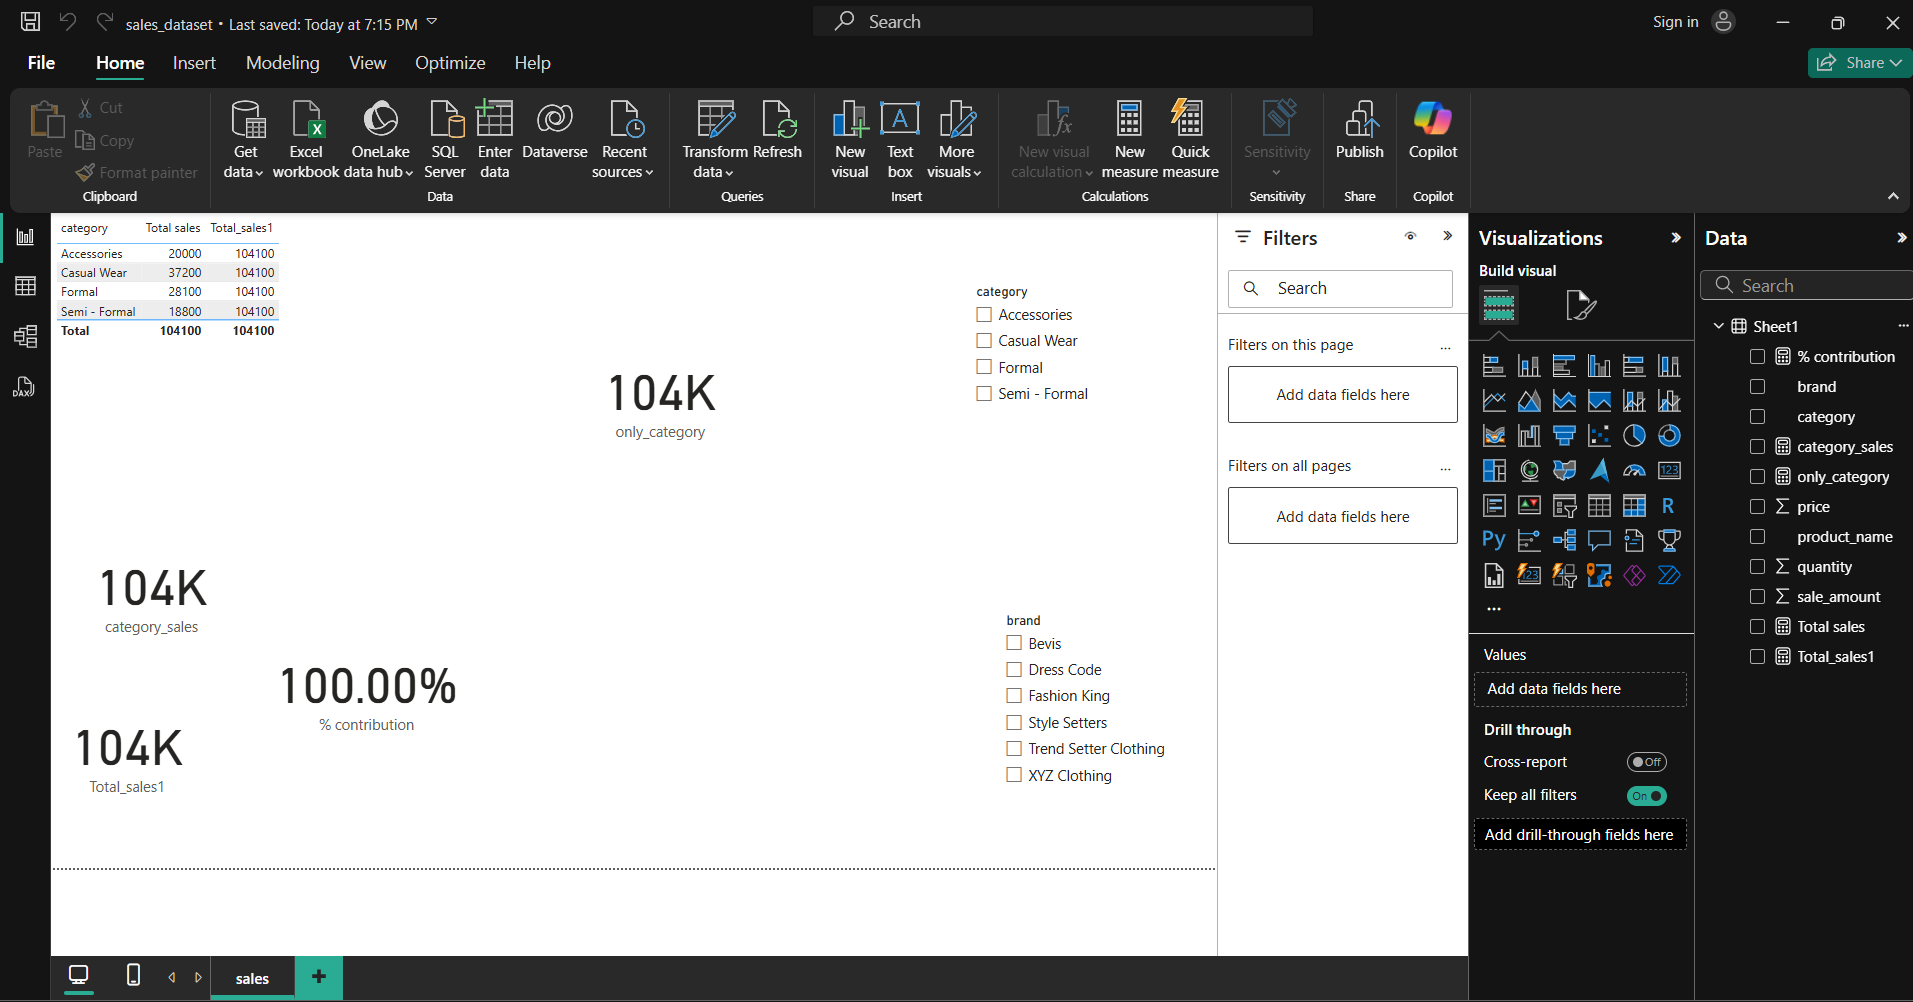

What the dashboard file says about the page in this screenshot:
{"tool":"powerbi","page":{"name":"sales","canvas":[1280,720],"ordinal":0},"visuals":[{"type":"tableEx","fields":{"Values":["Sheet1.category","Sheet1.Total sales","Sheet1.Total_sales1"]},"box":[0,0,371.9,201.7],"z":0},{"type":"slicer","fields":{"Values":["Sheet1.category"]},"box":[1003.1,72.7,234.6,203.1],"z":1},{"type":"slicer","fields":{"Values":["Sheet1.brand"]},"box":[1036,433.6,244.3,226.4],"z":2},{"type":"card","fields":{"Values":["Sheet1.category_sales"]},"box":[24.7,349.9,171.5,130.4],"z":4},{"type":"card","fields":{"Values":["Sheet1.Total_sales1"]},"box":[0,522.8,167.4,137.2],"z":5},{"type":"card","fields":{"Values":["Sheet1.% contribution"]},"box":[238.8,452.8,215.4,140],"z":6},{"type":"card","fields":{"Values":["Sheet1.only_category"]},"box":[551.6,100.2,234.6,203.1],"z":7}]}

Visuals, with their boxes on the page's 1280x720 design canvas (x1, y1, x2, y2). These are canvas units, not pixel positions in the 1913x1002 screenshot, which may show the page scaled, cropped or inside an application window:
tableEx - Sheet1.category x Sheet1.Total sales: select_region(0, 0, 372, 202)
slicer - Sheet1.category: select_region(1003, 73, 1238, 276)
slicer - Sheet1.brand: select_region(1036, 434, 1280, 660)
card - Sheet1.category_sales: select_region(25, 350, 196, 480)
card - Sheet1.Total_sales1: select_region(0, 523, 167, 660)
card - Sheet1.% contribution: select_region(239, 453, 454, 593)
card - Sheet1.only_category: select_region(552, 100, 786, 303)
